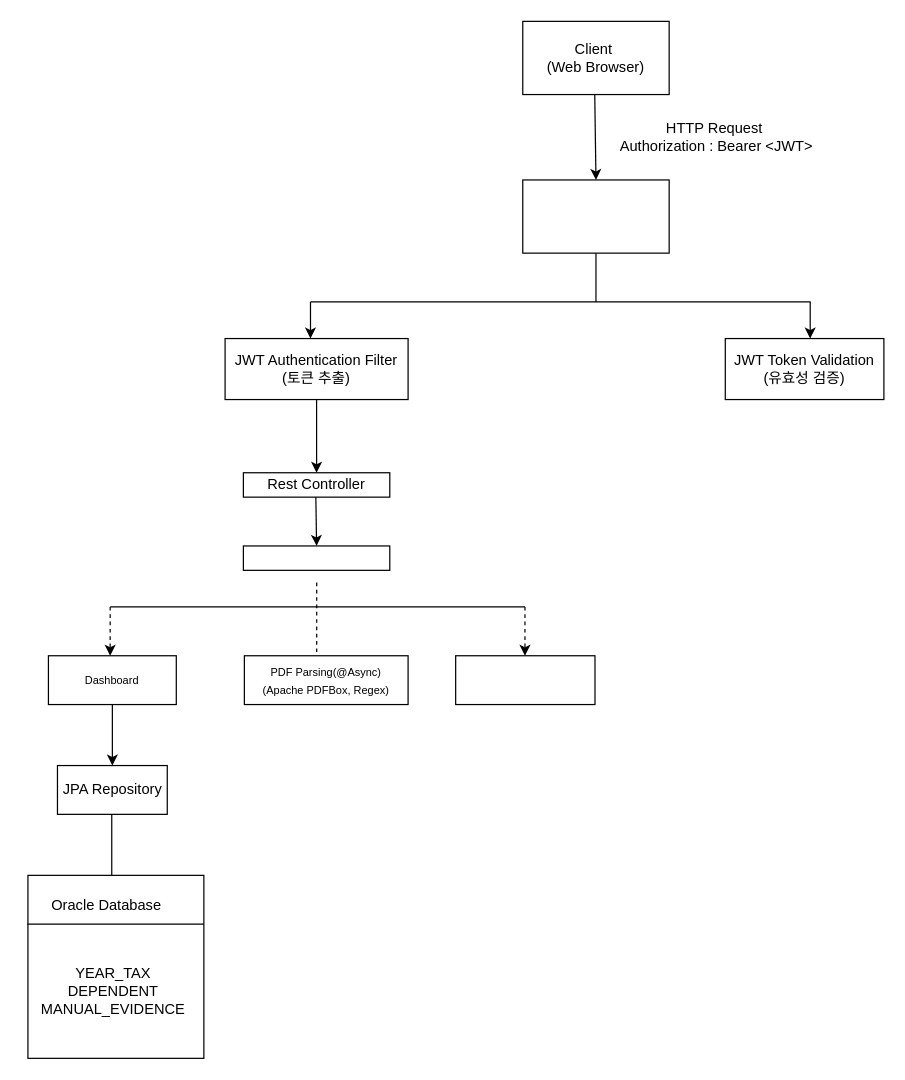
This 905x1080 diagram has some shape labels left out. Here are the shapes that lost their labels. From the top down, the centre of each, then its label:
point (595, 216): Spring Security FIlter Chain
point (316, 557): Service Layerr
point (524, 680): Tax Calculation (부양가족 공제 및 환급액 계산)
